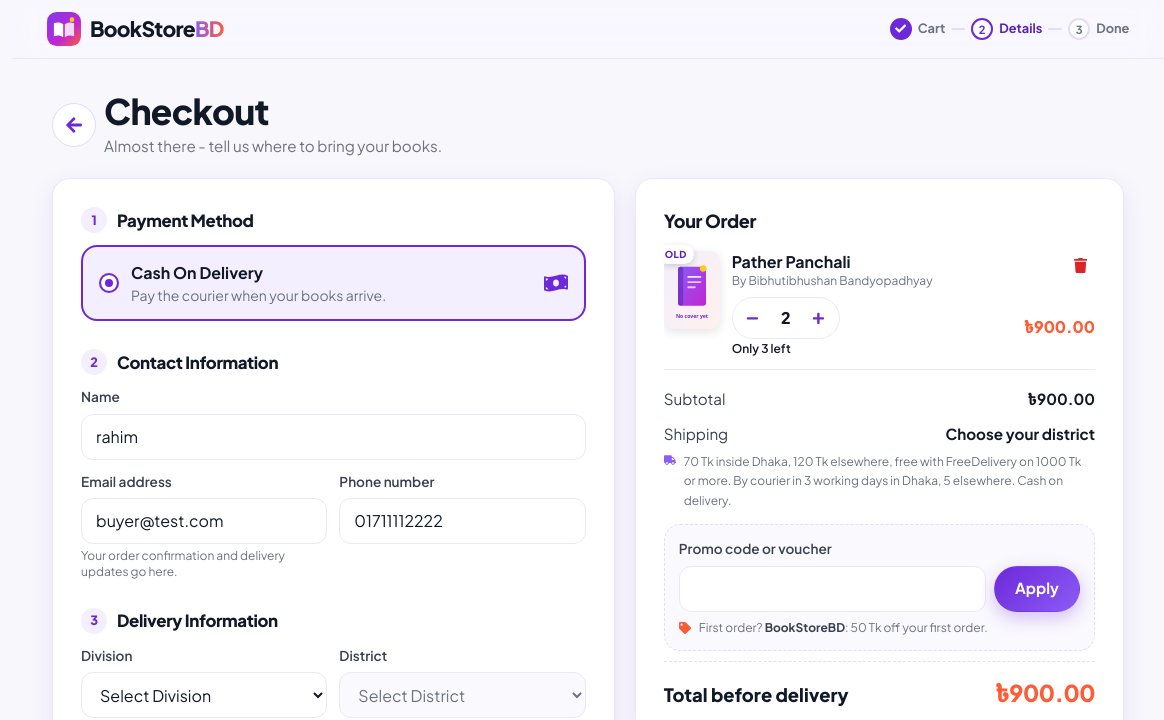
it: the contact details › refuse a number that is not a mobile number, before anything is sent
Step 1. Replace the text in the field labelled "Phone number" with "12345" → (462, 521), box [339,498,586,544]
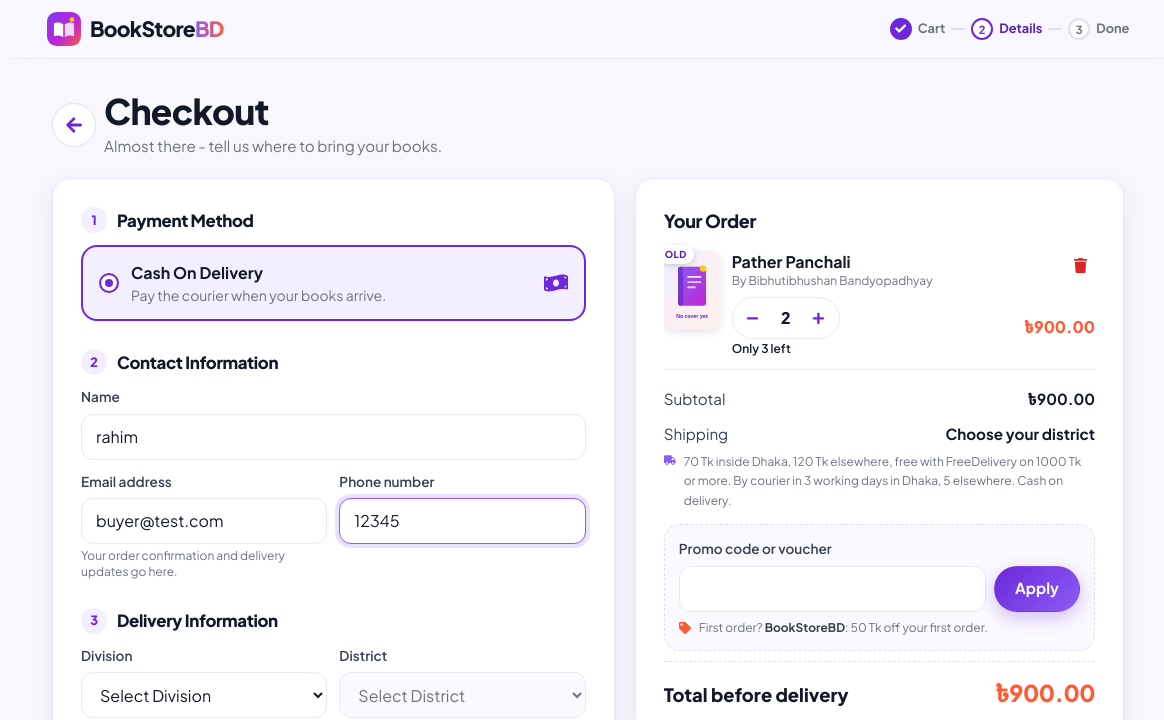
Step 2. Select "Dhaka" in the dropdown labelled "Division" → (204, 695), box [81,672,327,718]
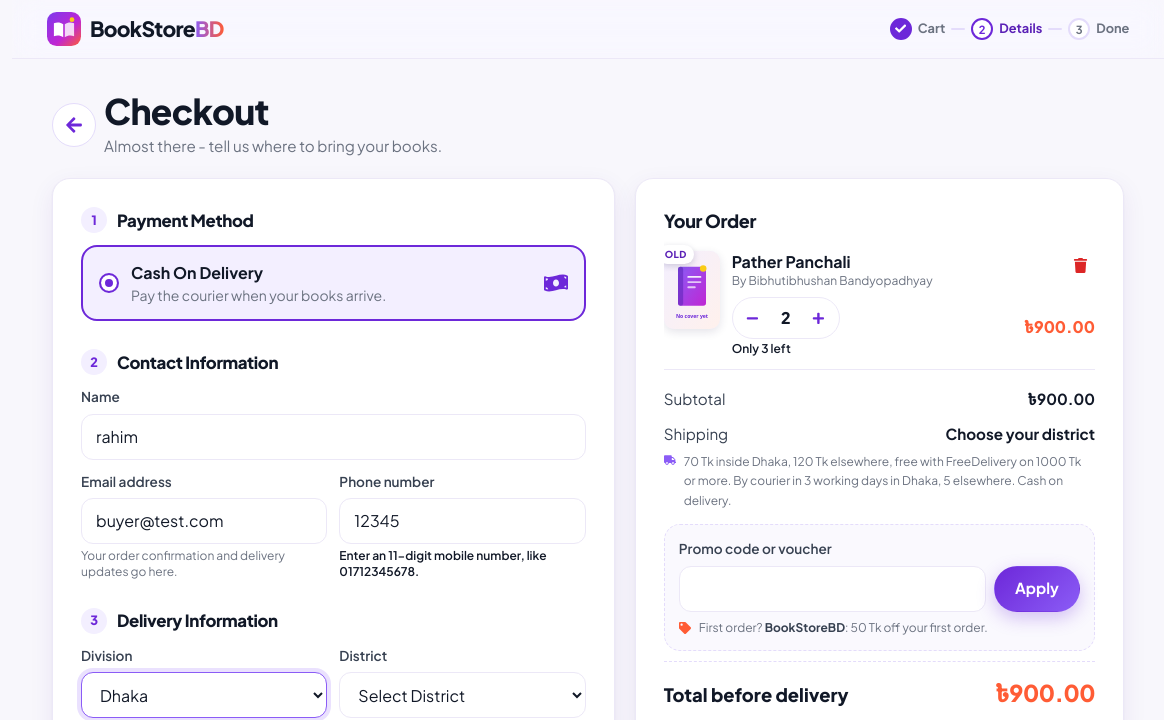
Step 3. Select "Dhaka" in the dropdown labelled "District" → (462, 695), box [339,672,586,718]
(page scrolled)
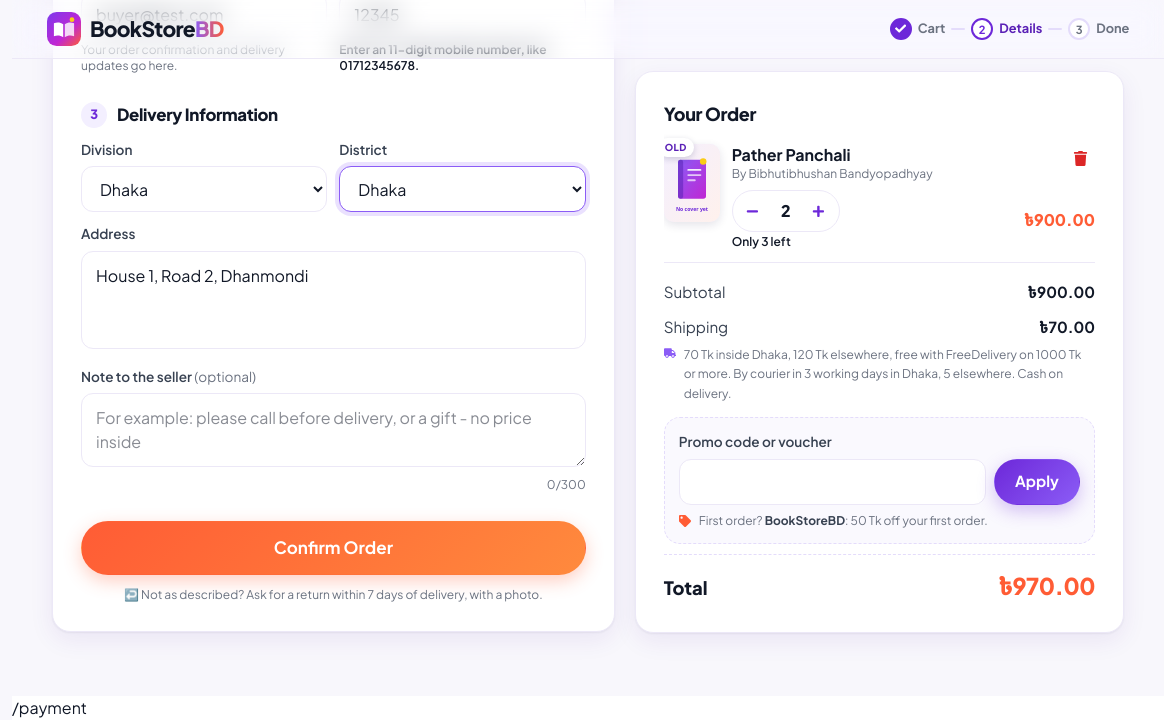
Step 4. Click the button "Confirm Order" → (333, 548), box [81,521,586,575]
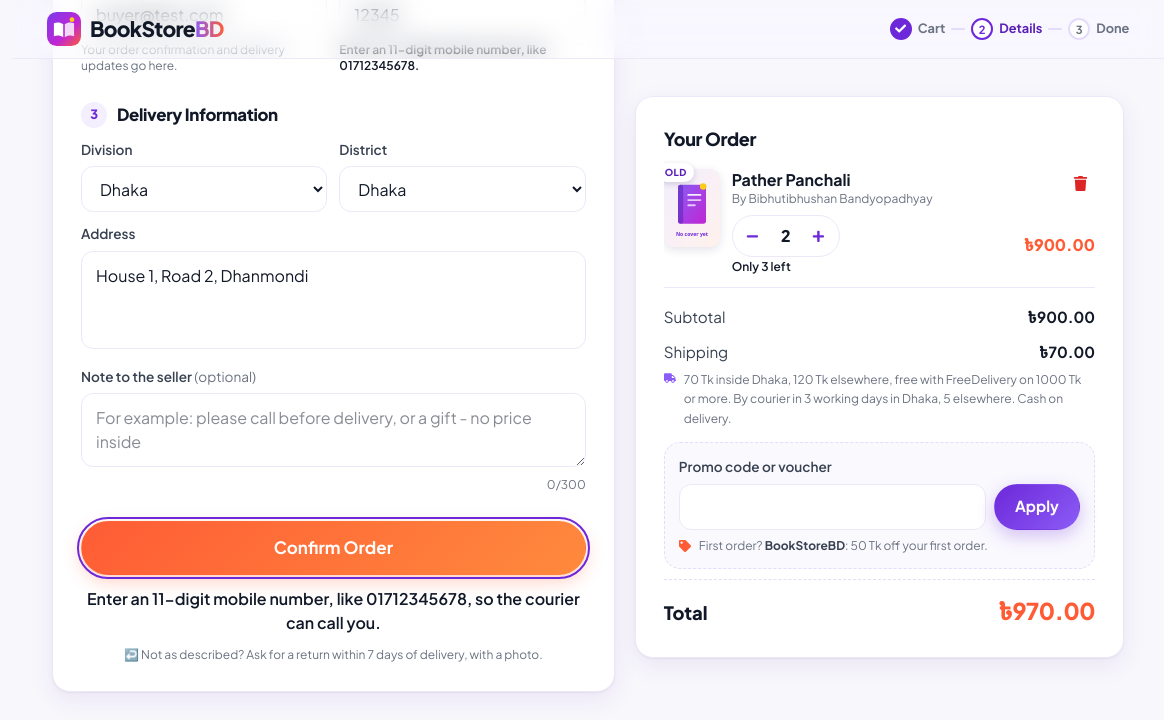
Expected: the text "so the courier can call you" is shown, [87,588,580,633]
